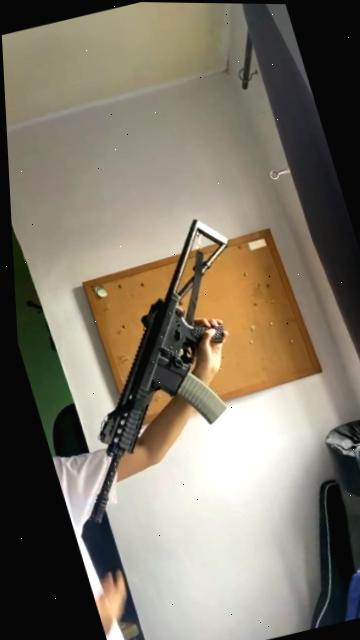rifle: (8, 200, 304, 537)
